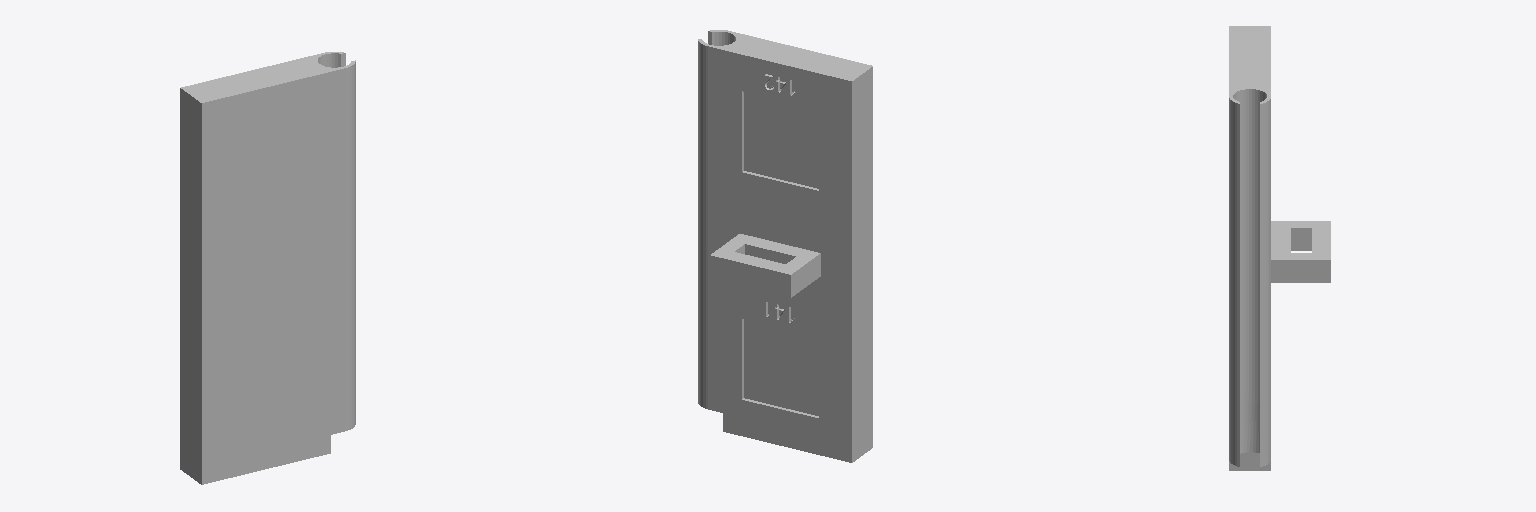
The model's file is cabinet_door_right.obj.
3 renders of one model, left to right at view 1: azimuth 30°, elevation 25°; view 2: azimuth 150°, elevation 25°; view 3: azimuth 270°, elevation 25°, orthographic.
Parts seen in each view (by area): view 1: cabinet_door_right_v12; view 2: cabinet_door_right_v12, cabinet_door_right_v12.001, cabinet_door_right_v12.002; view 3: cabinet_door_right_v12.
Boxes of the visible parts, box(x1,y1,x2,y2) form: cabinet_door_right_v12: box(180, 52, 355, 484); cabinet_door_right_v12: box(698, 30, 872, 462); cabinet_door_right_v12.001: box(742, 319, 818, 417); cabinet_door_right_v12.002: box(742, 91, 818, 190); cabinet_door_right_v12: box(1229, 26, 1330, 470).
Size of the model in its own units: 0.0542 by 0.1238 by 0.03.